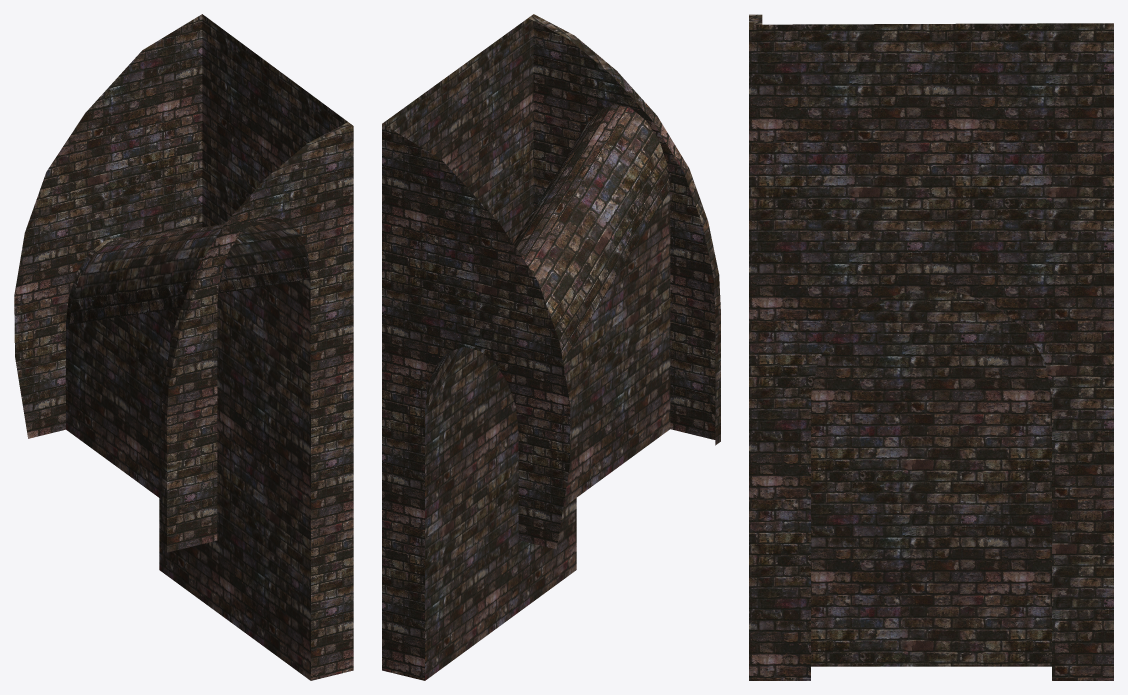
The model's file is stone_arch02.DAE.
3 views of the same model, side by side, from view 1: azimuth 30°, elevation 25°; view 2: azimuth 150°, elevation 25°; view 3: azimuth 270°, elevation 25° (orthographic). The views are drawn at different scales.
Visible parts, largest first — view 1: stone_arch003; view 2: stone_arch003; view 3: stone_arch003.
Boxes of the visible parts, x1=… form: stone_arch003: x1=14, y1=14, x2=353, y2=680; stone_arch003: x1=382, y1=14, x2=720, y2=680; stone_arch003: x1=749, y1=14, x2=1113, y2=680.
Bounding box in the file's own units: 3.01 × 8.35 × 4.2.
